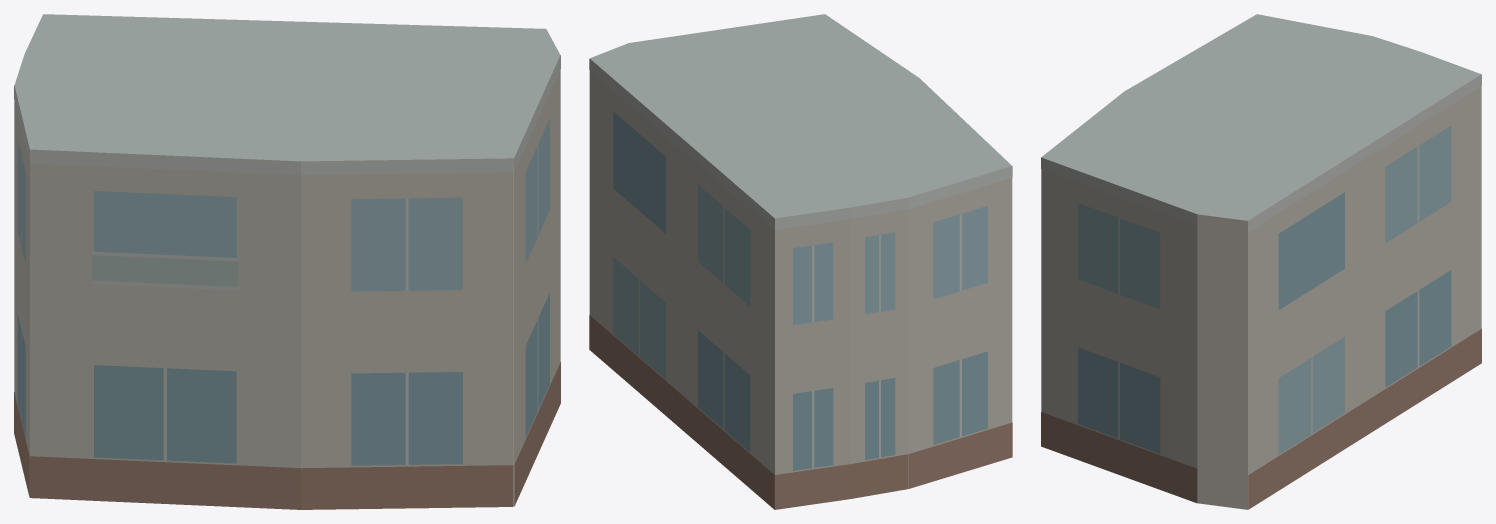
Rendered from survey-upis-32459574.glb.
3 views of the same model, side by side, from view 1: azimuth 30°, elevation 25°; view 2: azimuth 150°, elevation 25°; view 3: azimuth 270°, elevation 25° (orthographic). The views are drawn at different scales.
Parts seen in each view (by area): view 1: survey-upis-32459574.tmp; view 2: survey-upis-32459574.tmp; view 3: survey-upis-32459574.tmp.
Boxes of the visible parts, left/top/right/bottom form: survey-upis-32459574.tmp: left=14, top=14, right=560, bottom=509; survey-upis-32459574.tmp: left=589, top=14, right=1012, bottom=509; survey-upis-32459574.tmp: left=1041, top=14, right=1481, bottom=509.
Bounding box in the file's own units: 9.37 × 6.1 × 8.43.
